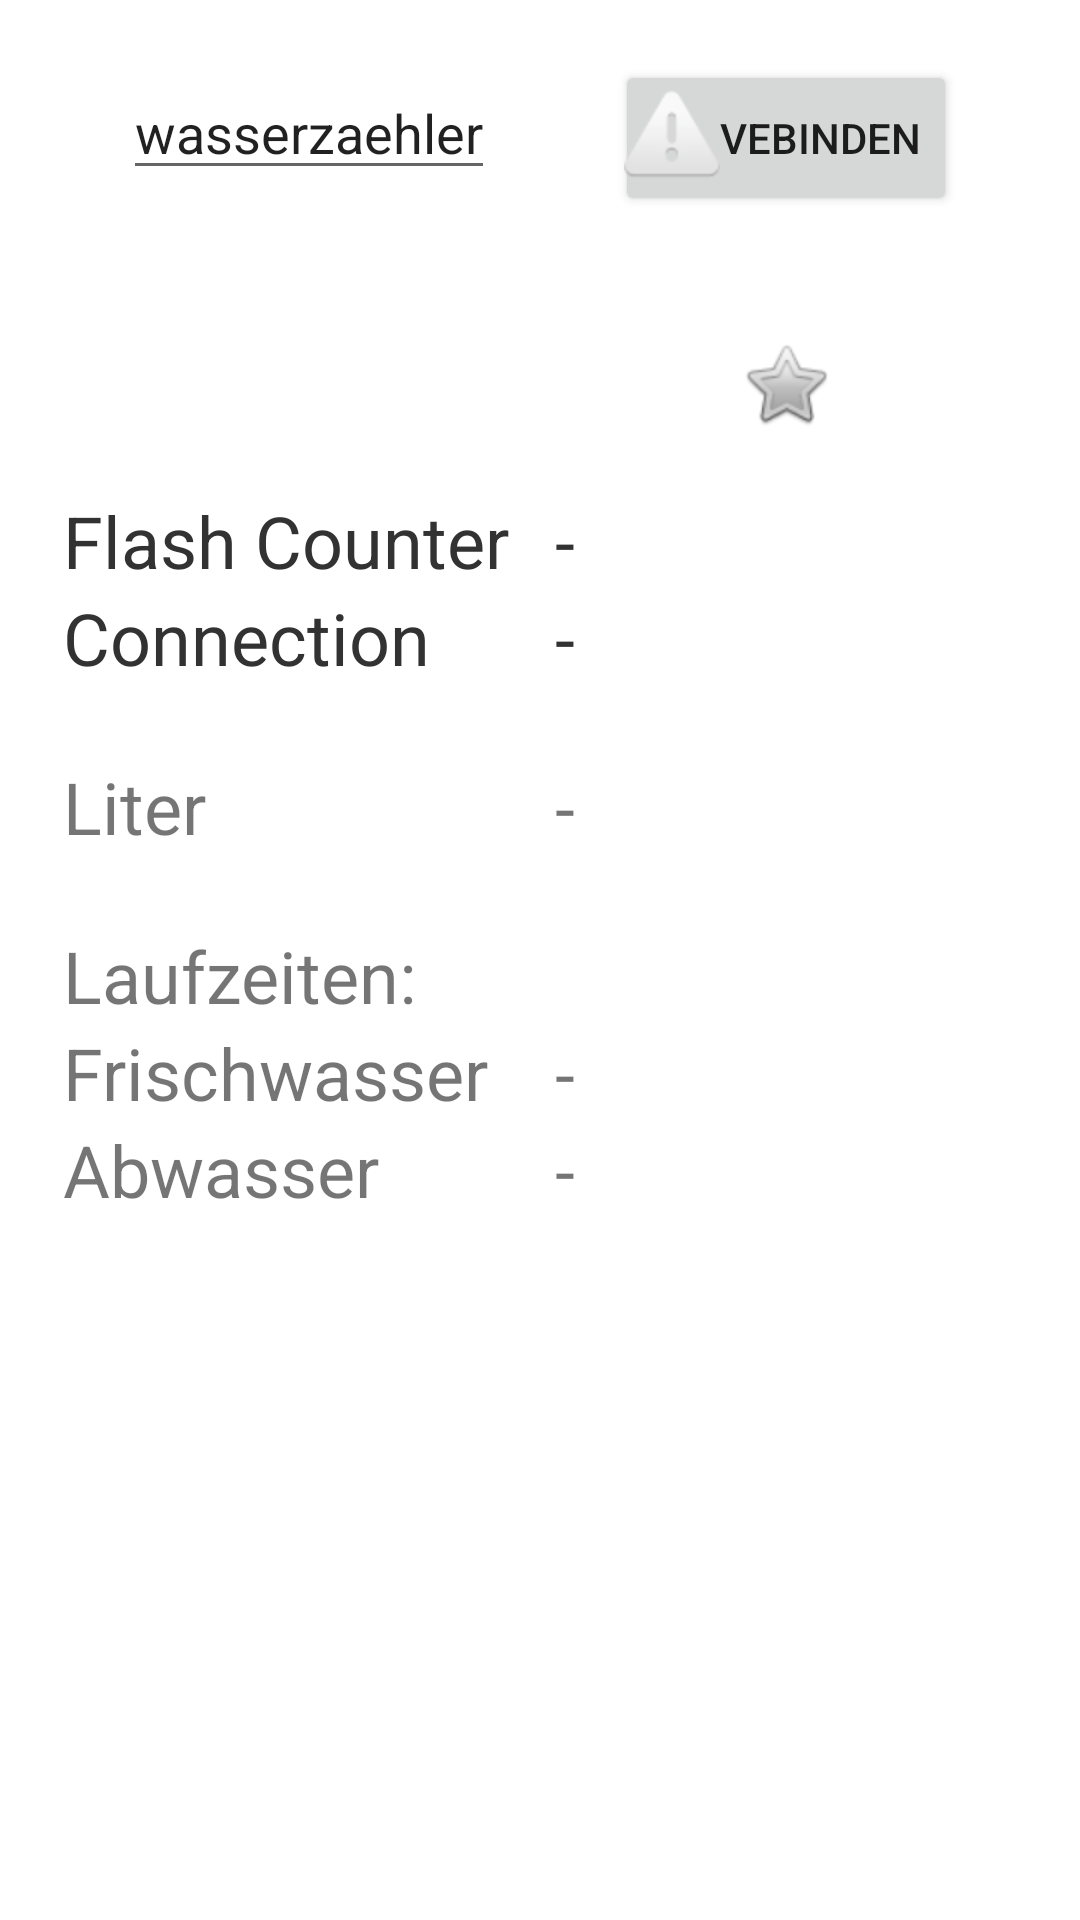

Screen size 1080px×1920px. Icon name, then its box in pixels as (x1, y1, x2, y2):
star off: (747, 346, 827, 424)
